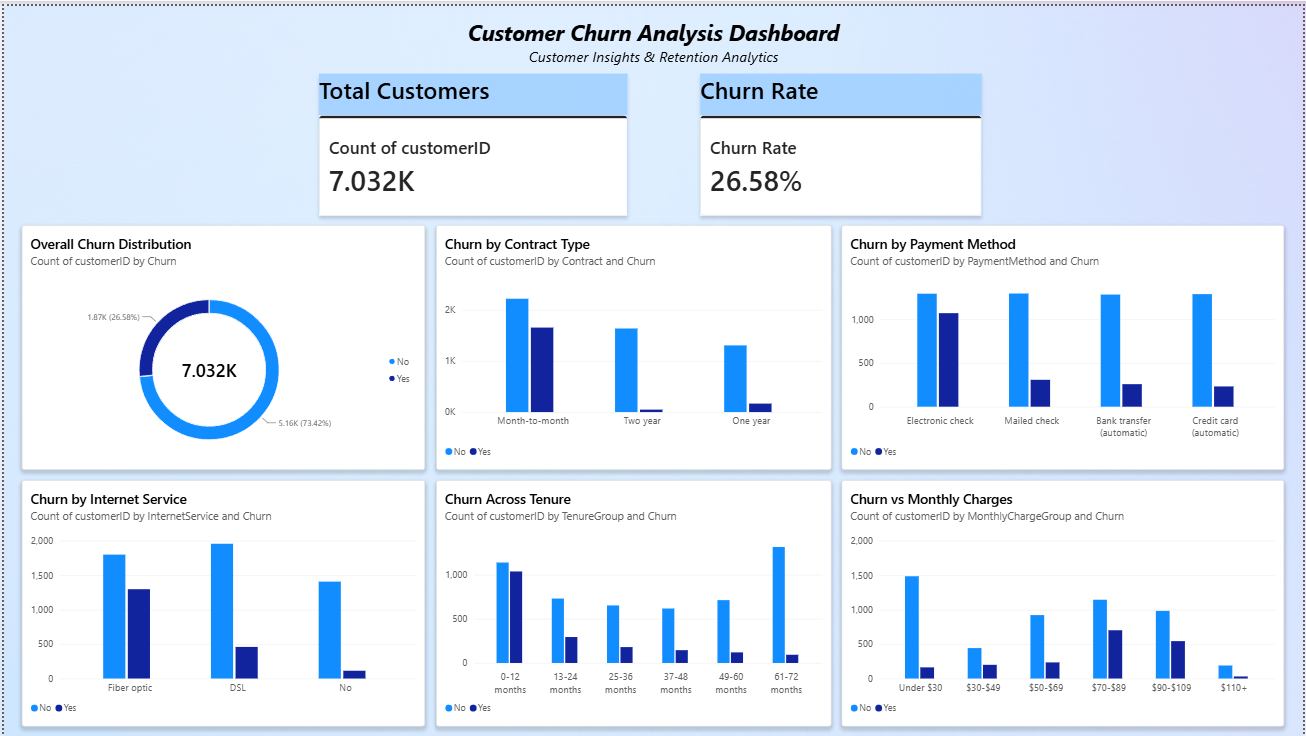

This screenshot's page, from the dashboard's own definition file:
{"tool":"powerbi","page":{"name":"Page 1","canvas":[1920,1080],"ordinal":0},"visuals":[{"type":"cardVisual","title":"Total Customers","fields":{"Data":["CountNonNull(cleaned_customer_churn.customerID)"]},"box":[465.6,99.9,456.2,211.1],"z":0},{"type":"donutChart","title":"Overall Churn Distribution","fields":{"Category":["cleaned_customer_churn.Churn"],"Y":["CountNonNull(cleaned_customer_churn.customerID)"]},"box":[26.4,324.3,595.7,362],"z":1000},{"type":"cardVisual","title":"Churn Rate","fields":{"Data":["cleaned_customer_churn.Churn Rate"]},"box":[1029.3,99.9,416.6,211.1],"z":2000},{"type":"clusteredColumnChart","title":"Churn by Contract Type","fields":{"Category":["cleaned_customer_churn.Contract"],"Series":["cleaned_customer_churn.Churn"],"Y":["CountNonNull(cleaned_customer_churn.customerID)"]},"box":[639.1,324.3,584.4,362],"z":3000},{"type":"clusteredColumnChart","title":"Churn by Payment Method","fields":{"Category":["cleaned_customer_churn.PaymentMethod"],"Series":["cleaned_customer_churn.Churn"],"Y":["CountNonNull(cleaned_customer_churn.customerID)"]},"box":[1238.6,324.3,654.2,362],"z":4000},{"type":"clusteredColumnChart","title":"Churn by Internet Service","fields":{"Category":["cleaned_customer_churn.InternetService"],"Series":["cleaned_customer_churn.Churn"],"Y":["CountNonNull(cleaned_customer_churn.customerID)"]},"box":[26.4,701.3,595.7,363.8],"z":5000},{"type":"clusteredColumnChart","title":"Churn Across Tenure","fields":{"Category":["cleaned_customer_churn.TenureGroup"],"Series":["cleaned_customer_churn.Churn"],"Y":["CountNonNull(cleaned_customer_churn.customerID)"]},"box":[639.1,701.3,584.4,363.8],"z":6000},{"type":"clusteredColumnChart","title":"Churn vs Monthly Charges","fields":{"Category":["cleaned_customer_churn.MonthlyChargeGroup"],"Series":["cleaned_customer_churn.Churn"],"Y":["CountNonNull(cleaned_customer_churn.customerID)"]},"box":[1238.6,701.3,654.2,363.8],"z":7000},{"type":"textbox","box":[0,0,1921,99.9],"z":8000}]}

Visuals, with their boxes in screenshot pixels (x1, y1, x2, y2), scaled from the page's 1920x1080 canvas onto the 1306x736 screenshot:
"Total Customers" cardVisual: bbox(317, 68, 627, 212)
"Overall Churn Distribution" donutChart: bbox(18, 221, 423, 468)
"Churn Rate" cardVisual: bbox(700, 68, 984, 212)
"Churn by Contract Type" clusteredColumnChart: bbox(435, 221, 832, 468)
"Churn by Payment Method" clusteredColumnChart: bbox(843, 221, 1287, 468)
"Churn by Internet Service" clusteredColumnChart: bbox(18, 478, 423, 726)
"Churn Across Tenure" clusteredColumnChart: bbox(435, 478, 832, 726)
"Churn vs Monthly Charges" clusteredColumnChart: bbox(843, 478, 1287, 726)
textbox: bbox(0, 0, 1305, 68)
